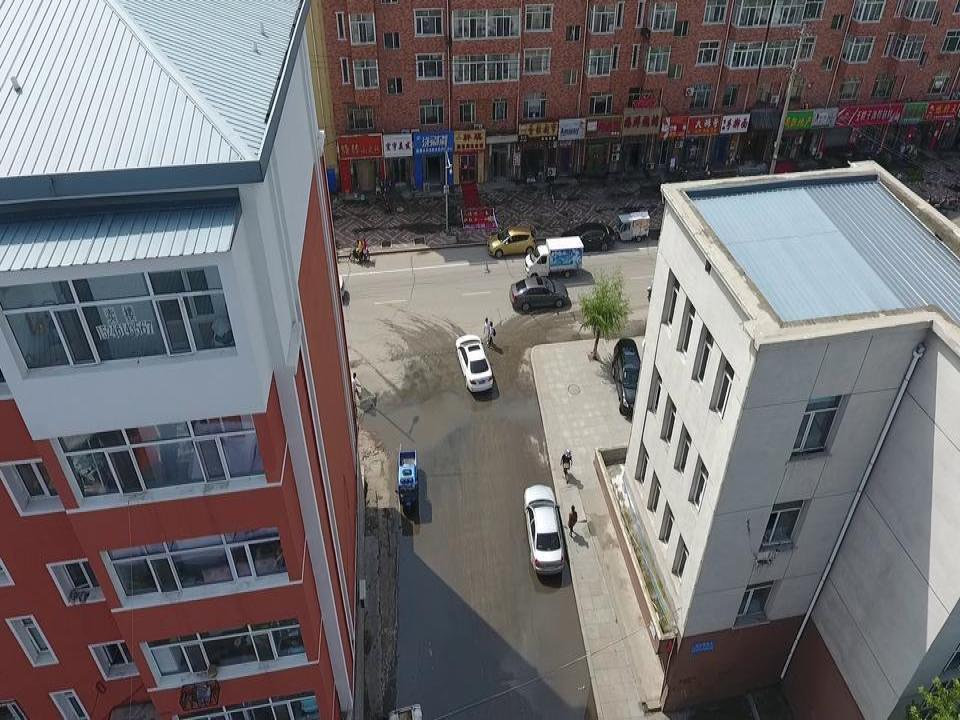car: (523, 485, 565, 575), (613, 337, 645, 419), (508, 276, 571, 311), (454, 334, 493, 390), (487, 228, 537, 259), (560, 224, 615, 252)
truck: (523, 237, 585, 280)
